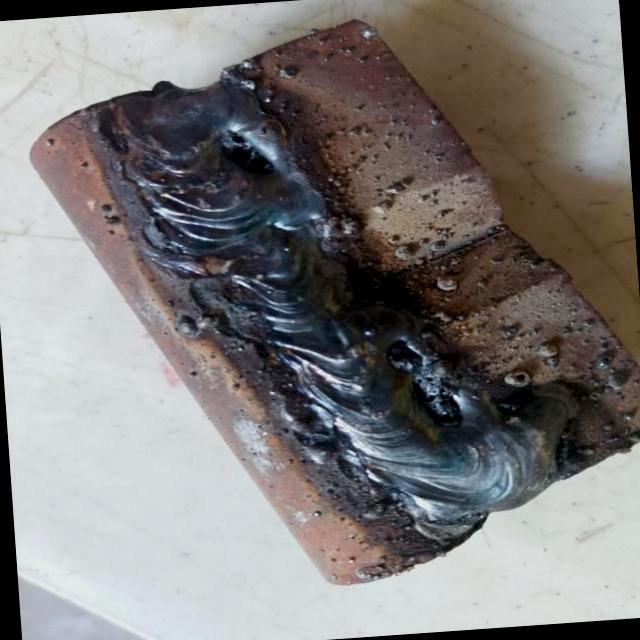defect: (385, 343, 463, 430), (214, 128, 284, 178)
